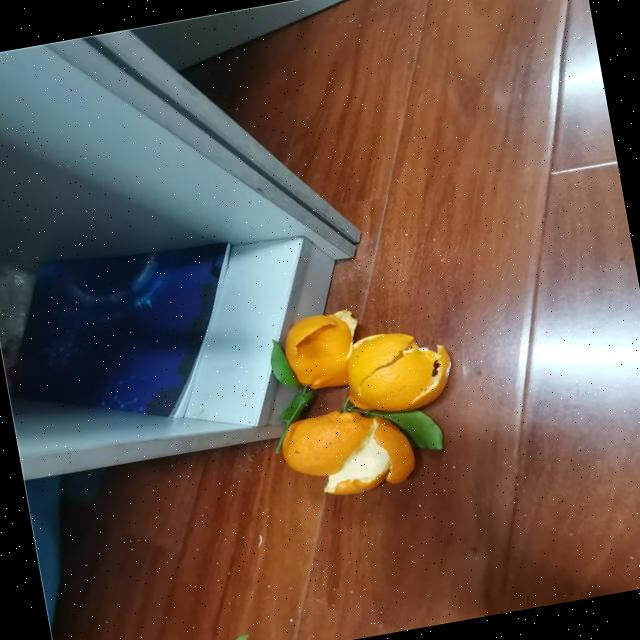orange-peel: (254, 290, 471, 507), (338, 321, 458, 420), (278, 306, 367, 395)
